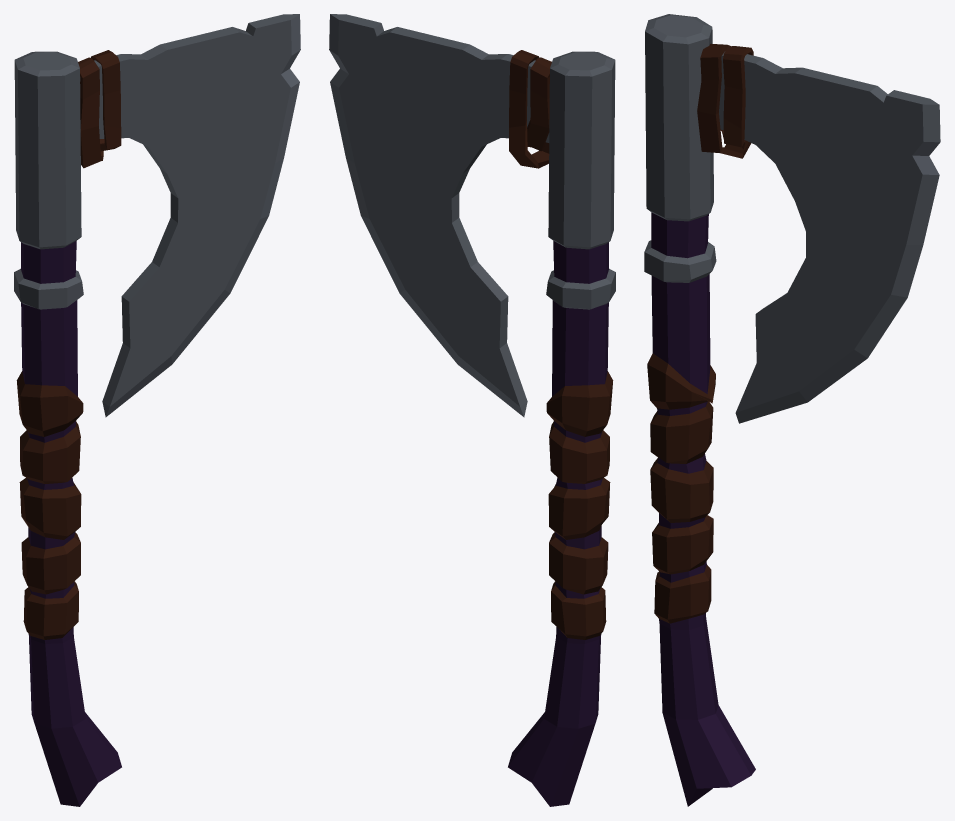
The model's file is Axe_Small.glb.
3 views of the same model, side by side, from view 1: azimuth 30°, elevation 25°; view 2: azimuth 150°, elevation 25°; view 3: azimuth 330°, elevation 25° (orthographic). The views are drawn at different scales.
Visible parts, largest first — view 1: Axe_Small; view 2: Axe_Small; view 3: Axe_Small.
Boxes of the visible parts, box(x1,y1,x2,y2) form: Axe_Small: box(14, 14, 300, 806); Axe_Small: box(329, 14, 615, 806); Axe_Small: box(644, 14, 940, 806).
Bounding box in the file's own units: 0.1584 × 0.4 × 0.0336.
